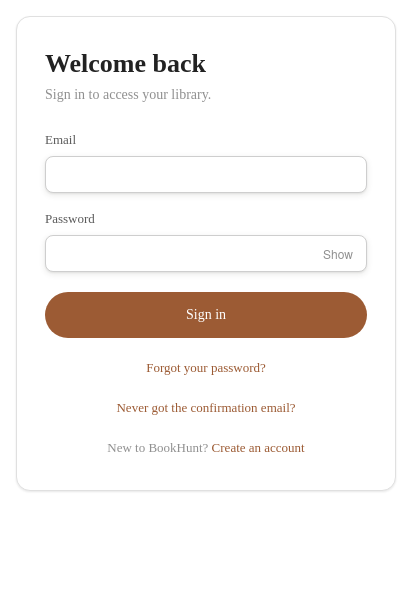
Scenario: LoginPage › when the address has not been verified › explains the 403 rather than showing a credentials error
Type "reader@example.com" into the field labelled "Email" at coordinates (206, 174), box [45,156,367,193]
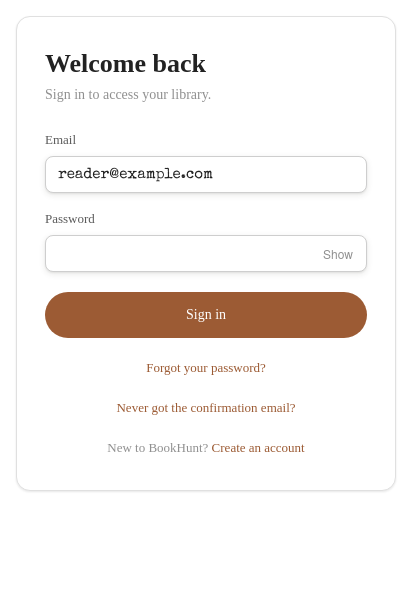
Type "b00kW0rm!" into the password field labelled "Password" at coordinates (206, 254), box [45,235,367,272]
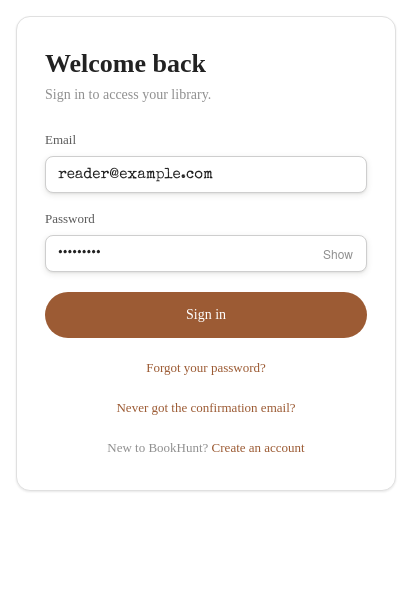
Click the button "Sign in" at coordinates (206, 315), box [45,292,367,338]
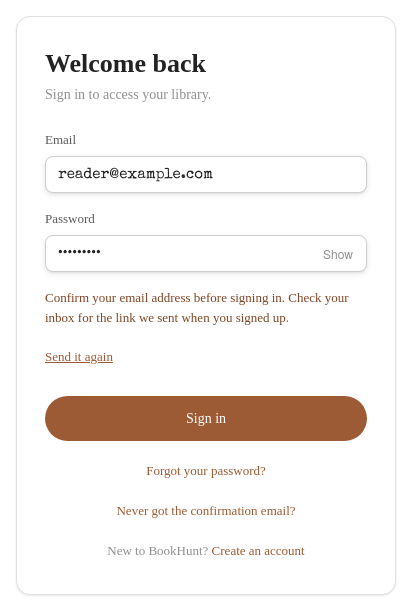
Result: the message shows "Confirm your email address before signing in." at [45,290,349,325]
